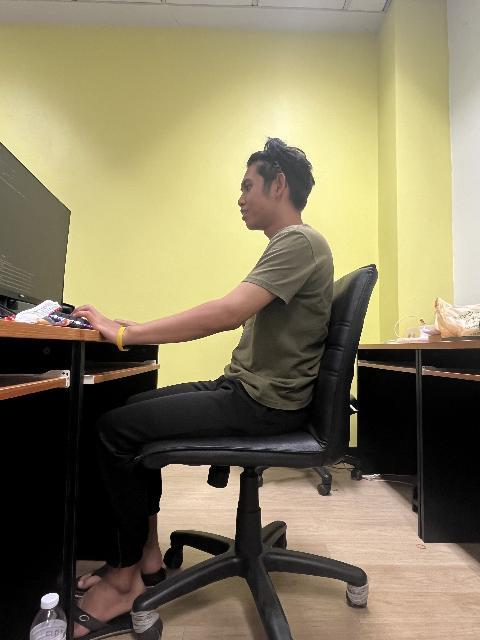good-pose: (0, 0, 480, 640)
